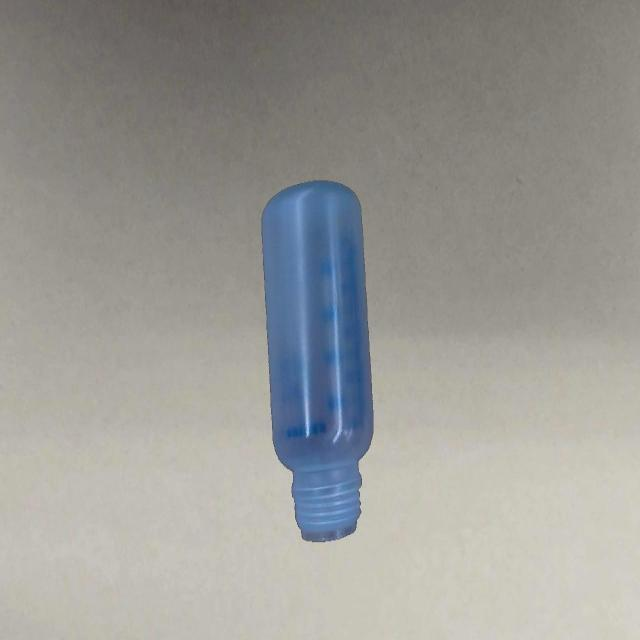bottle: (260, 178, 377, 545)
